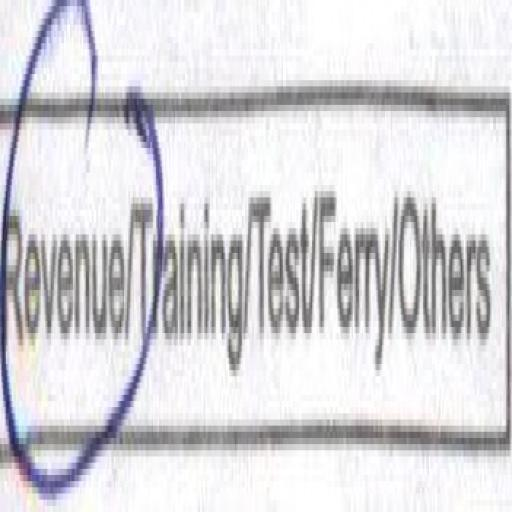check: (0, 37, 135, 512)
